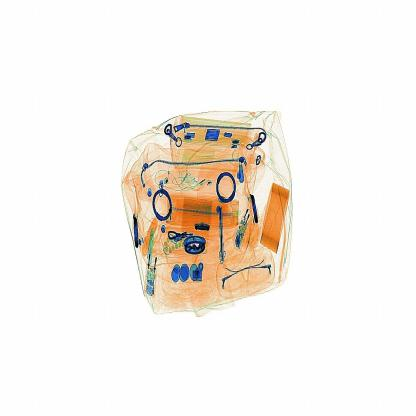knife: (216, 205, 227, 265)
